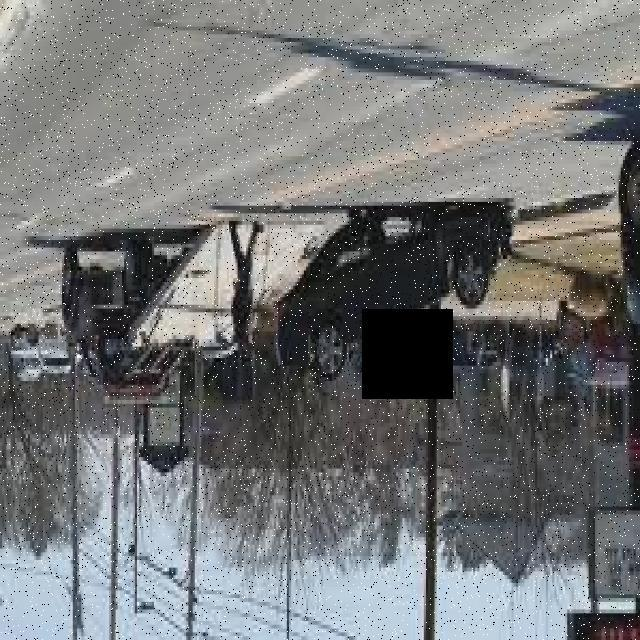severe: (272, 196, 516, 391)
